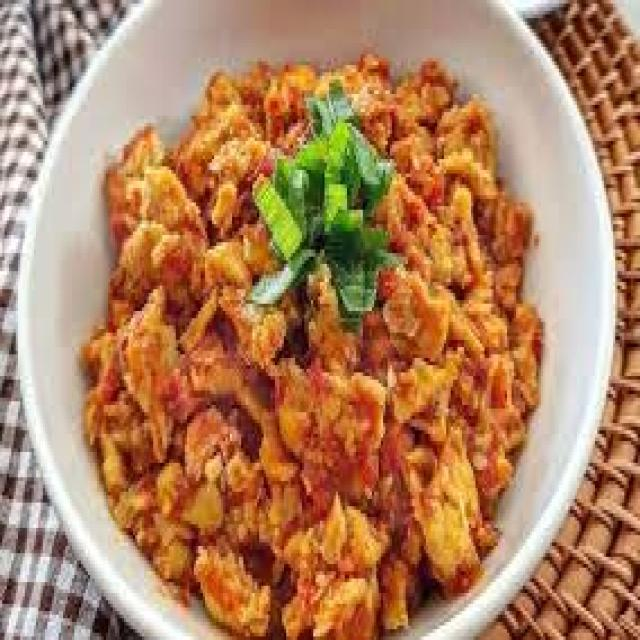telur_orak_arik: (82, 52, 530, 614)
